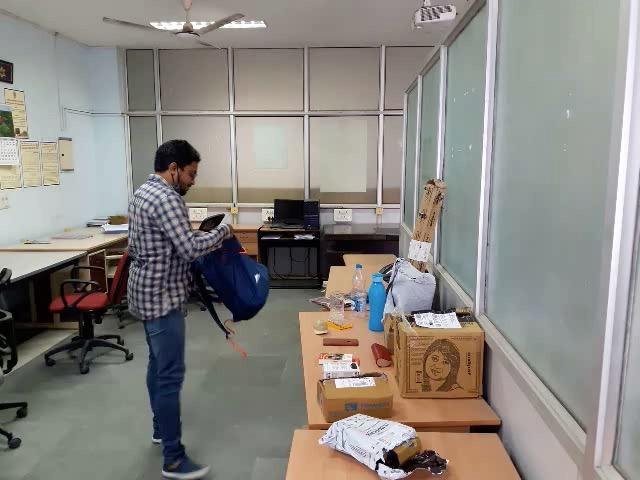shoplifting: (88, 186, 400, 393)
